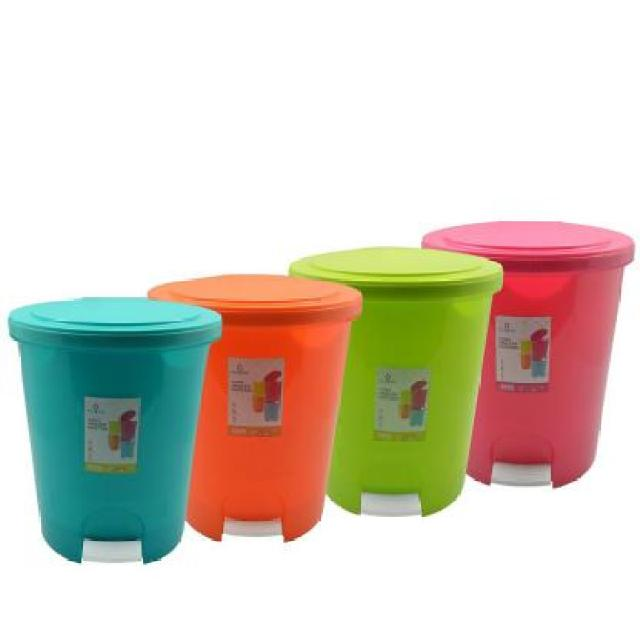garbage container: (283, 249, 512, 531), (8, 295, 218, 579), (180, 264, 366, 564), (461, 219, 640, 491)
